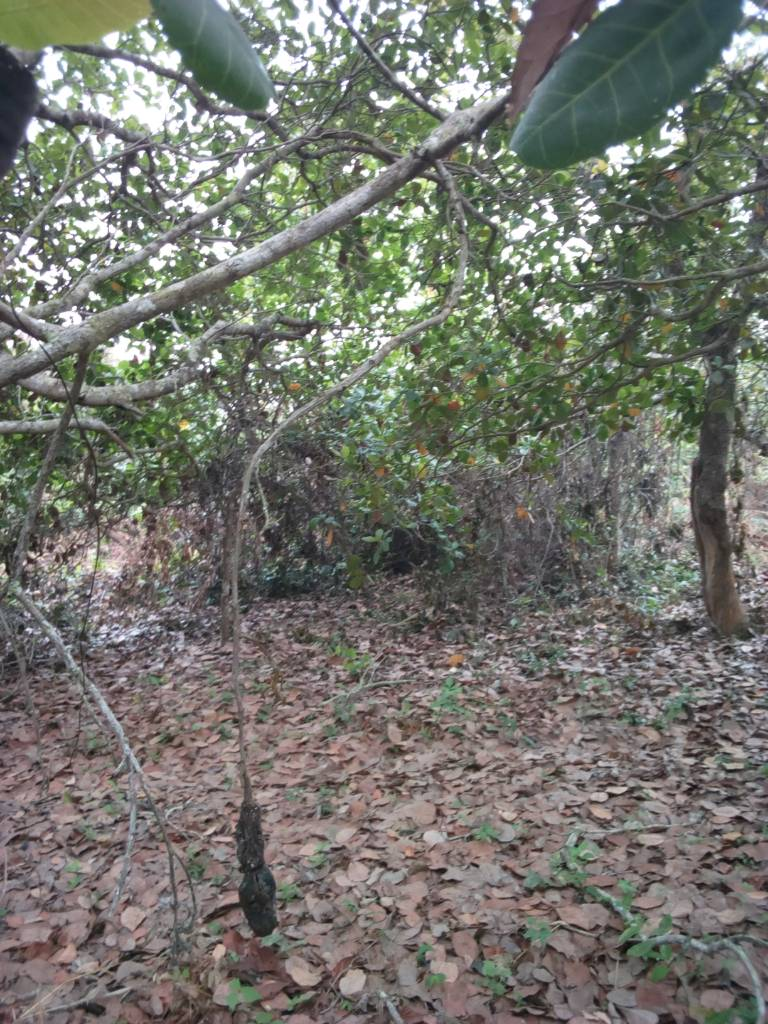Die-black: (210, 772, 318, 953)
